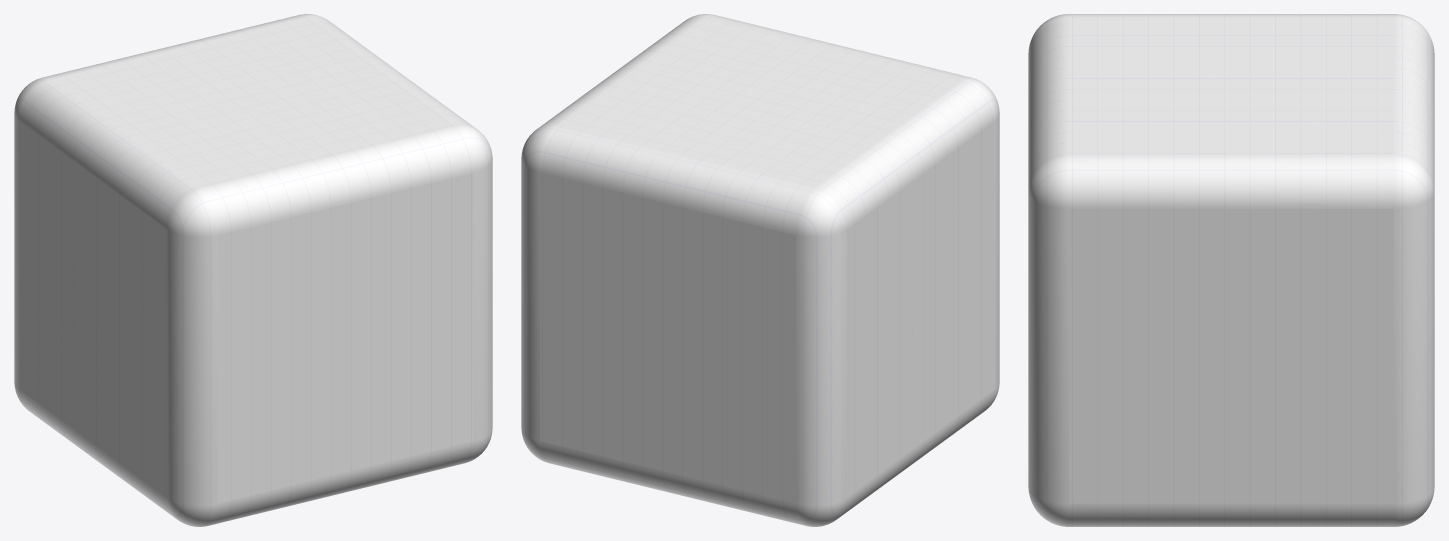
The model's file is cyclorama-00a.dae.
3 renders of one model, left to right at view 1: azimuth 30°, elevation 25°; view 2: azimuth 150°, elevation 25°; view 3: azimuth 270°, elevation 25°, orthographic. The views are drawn at different scales.
Visible parts, largest first — view 1: group_0; view 2: group_0; view 3: group_0.
Boxes of the visible parts, x1=… form: group_0: x1=14, y1=14, x2=492, y2=526; group_0: x1=521, y1=14, x2=999, y2=526; group_0: x1=1028, y1=14, x2=1434, y2=526.
Size of the model in its own units: 39.37 by 39.37 by 39.37.
1 material, 1 textured.
